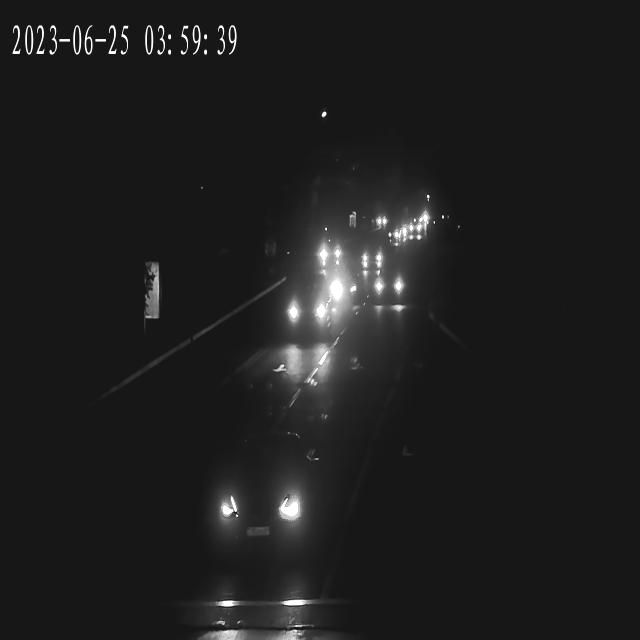Car: (209, 444, 315, 556), (278, 285, 337, 334), (372, 271, 407, 303), (316, 235, 347, 264), (313, 238, 344, 266), (360, 243, 386, 270), (387, 228, 405, 242), (407, 222, 424, 236), (407, 228, 424, 242), (375, 214, 390, 228)
